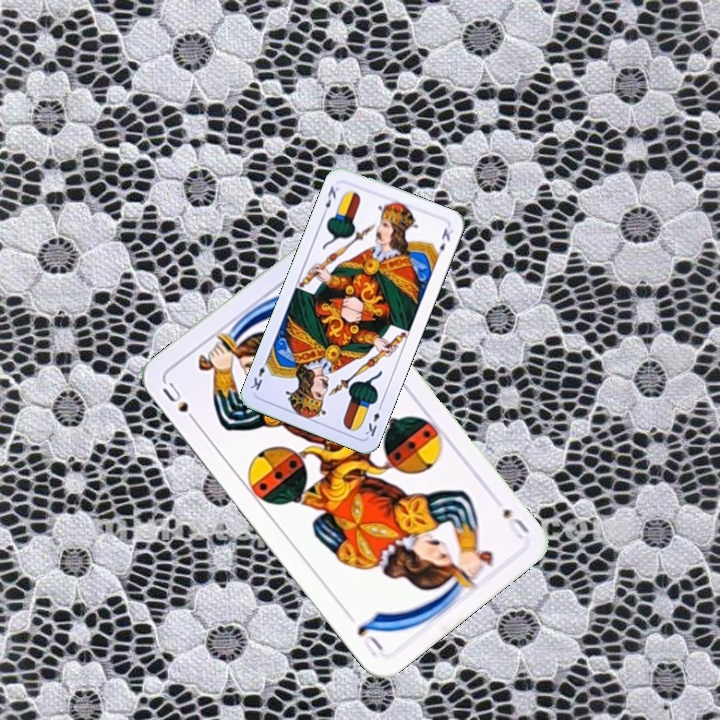EK: (361, 399, 385, 439), (318, 182, 342, 219)
SU: (158, 378, 202, 428), (498, 504, 532, 542)
